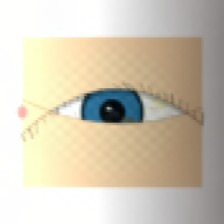pinguecula_lesion: (142, 88, 179, 118)
